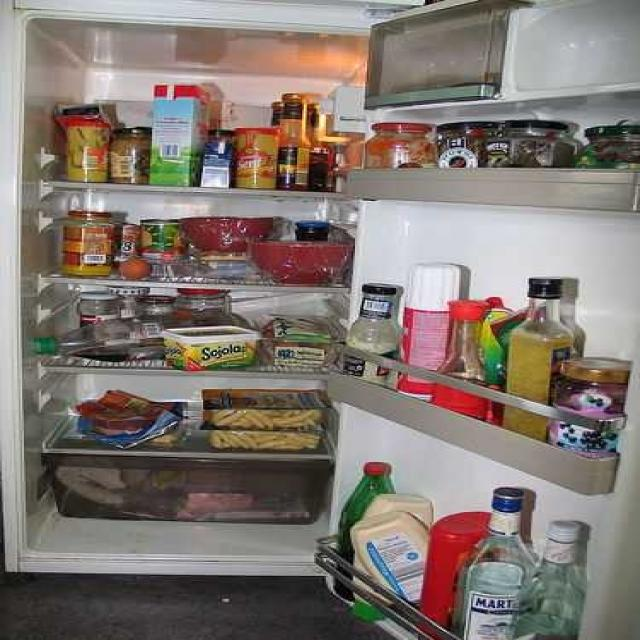refrigerator: (0, 9, 578, 584)
